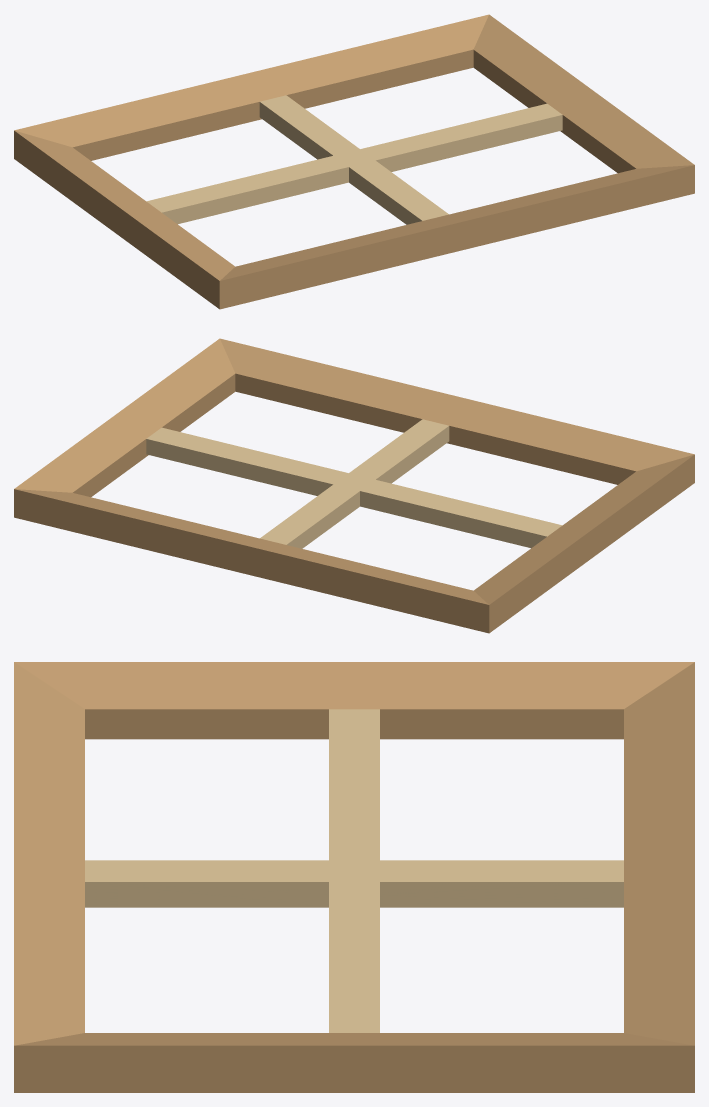
The picture shows the model from 3 angles, top to bottom: view 1: azimuth 30°, elevation 25°; view 2: azimuth 150°, elevation 25°; view 3: azimuth 270°, elevation 25°; orthographic projection. The views are drawn at different scales.
Parts seen in each view (by area): view 1: North_SlopedMiterRail, South_SlopedMiterRail, XBrace_LowerCentreHalfLap, East_SlopedMiterRail, West_SlopedMiterRail, YBrace_UpperCentreHalfLap; view 2: South_SlopedMiterRail, North_SlopedMiterRail, XBrace_LowerCentreHalfLap, East_SlopedMiterRail, West_SlopedMiterRail, YBrace_UpperCentreHalfLap; view 3: West_SlopedMiterRail, East_SlopedMiterRail, North_SlopedMiterRail, South_SlopedMiterRail, YBrace_UpperCentreHalfLap, XBrace_LowerCentreHalfLap.
Part boxes in pixels (x1=…): North_SlopedMiterRail: x1=14, y1=14, x2=488, y2=160; South_SlopedMiterRail: x1=219, y1=165, x2=694, y2=309; XBrace_LowerCentreHalfLap: x1=146, y1=103, x2=562, y2=224; East_SlopedMiterRail: x1=473, y1=14, x2=694, y2=173; West_SlopedMiterRail: x1=14, y1=130, x2=235, y2=308; YBrace_UpperCentreHalfLap: x1=259, y1=95, x2=448, y2=224; South_SlopedMiterRail: x1=220, y1=338, x2=694, y2=484; North_SlopedMiterRail: x1=14, y1=489, x2=489, y2=633; XBrace_LowerCentreHalfLap: x1=146, y1=427, x2=562, y2=548; East_SlopedMiterRail: x1=14, y1=338, x2=235, y2=497; West_SlopedMiterRail: x1=473, y1=454, x2=694, y2=632; YBrace_UpperCentreHalfLap: x1=260, y1=419, x2=449, y2=548; West_SlopedMiterRail: x1=14, y1=662, x2=694, y2=739; East_SlopedMiterRail: x1=14, y1=1033, x2=694, y2=1092; North_SlopedMiterRail: x1=624, y1=662, x2=694, y2=1045; South_SlopedMiterRail: x1=14, y1=662, x2=84, y2=1045; YBrace_UpperCentreHalfLap: x1=85, y1=860, x2=623, y2=907; XBrace_LowerCentreHalfLap: x1=329, y1=709, x2=379, y2=1032.
Bounding box in the file's own units: 0.96 × 0.055 × 0.72.
